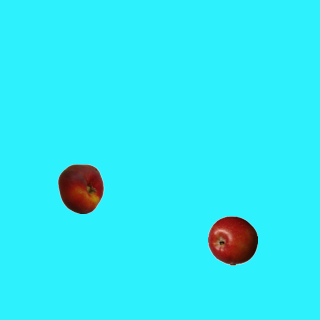Apple Braeburn: (207, 215, 257, 265)
Nectarine Flat: (55, 163, 105, 213)
